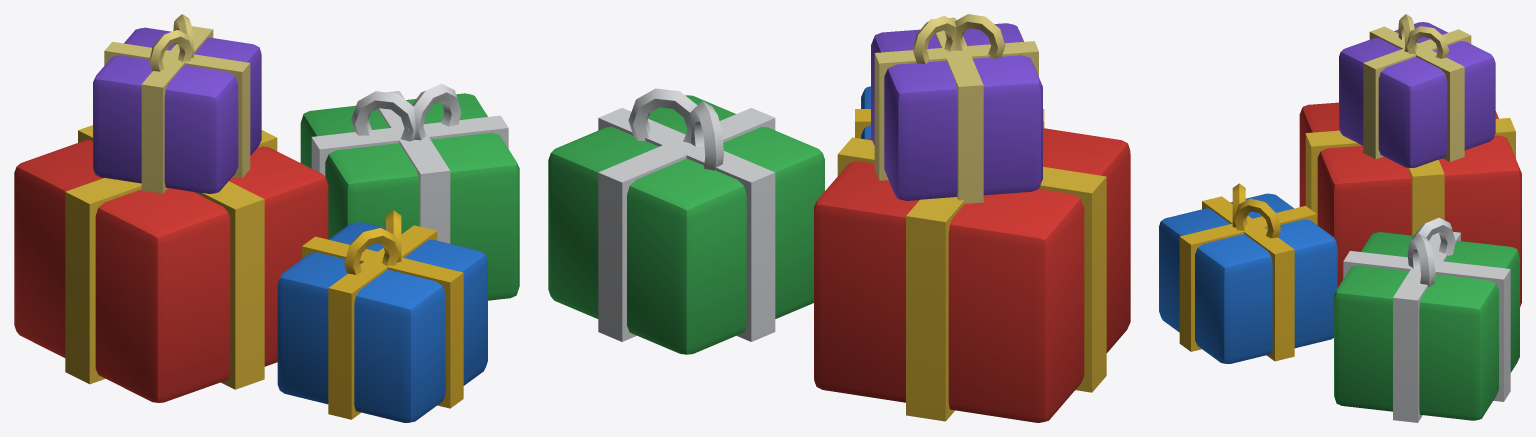
File: lo_gifts.glb
The picture shows the model from 3 angles, left to right: view 1: azimuth 30°, elevation 25°; view 2: azimuth 150°, elevation 25°; view 3: azimuth 270°, elevation 25°; orthographic projection. The views are drawn at different scales.
Parts seen in each view (by area): view 1: body; view 2: body; view 3: body.
Part boxes in pixels (x1=…): body: x1=14, y1=14, x2=519, y2=422; body: x1=548, y1=14, x2=1130, y2=422; body: x1=1159, y1=14, x2=1521, y2=422.
Size of the model in its own units: 1.38 by 0.9085 by 1.12.
